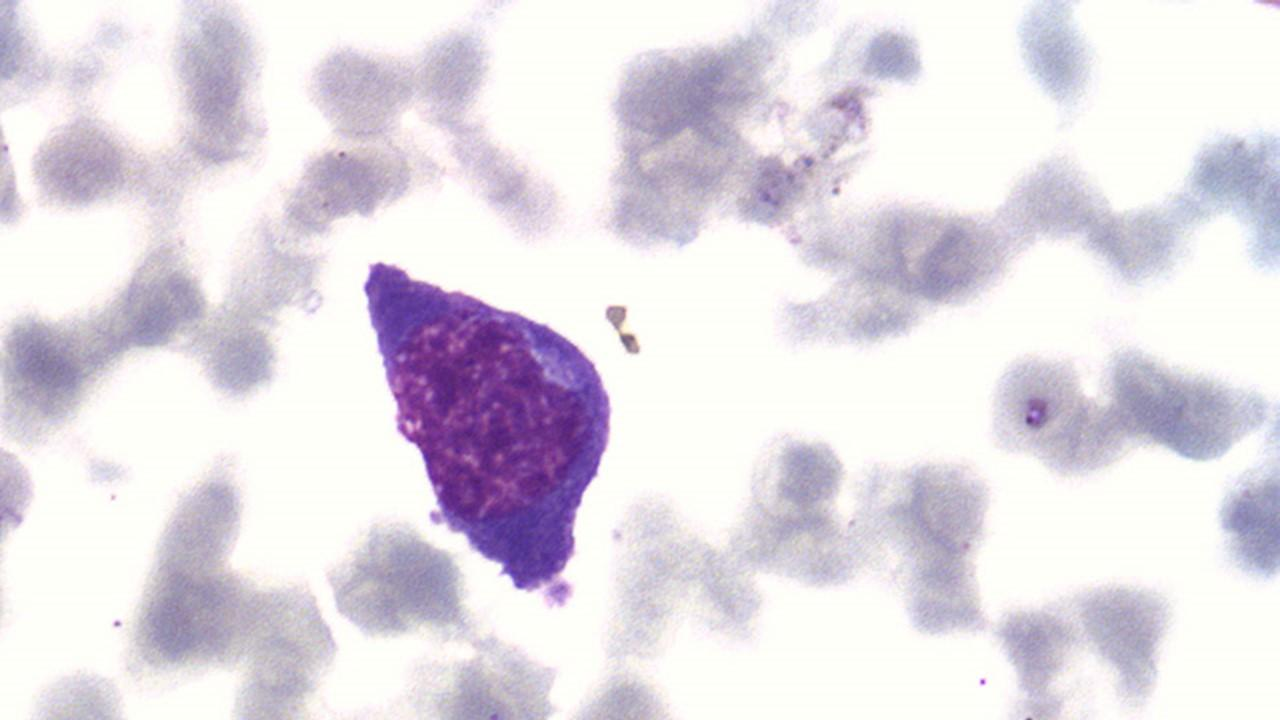Platelets: (1210, 426, 1278, 604), (1009, 4, 1107, 116), (856, 19, 929, 89)
RBC: (0, 428, 41, 563)
WBC: (348, 244, 635, 604), (984, 568, 1175, 716), (1209, 380, 1279, 607), (1, 428, 43, 570)
